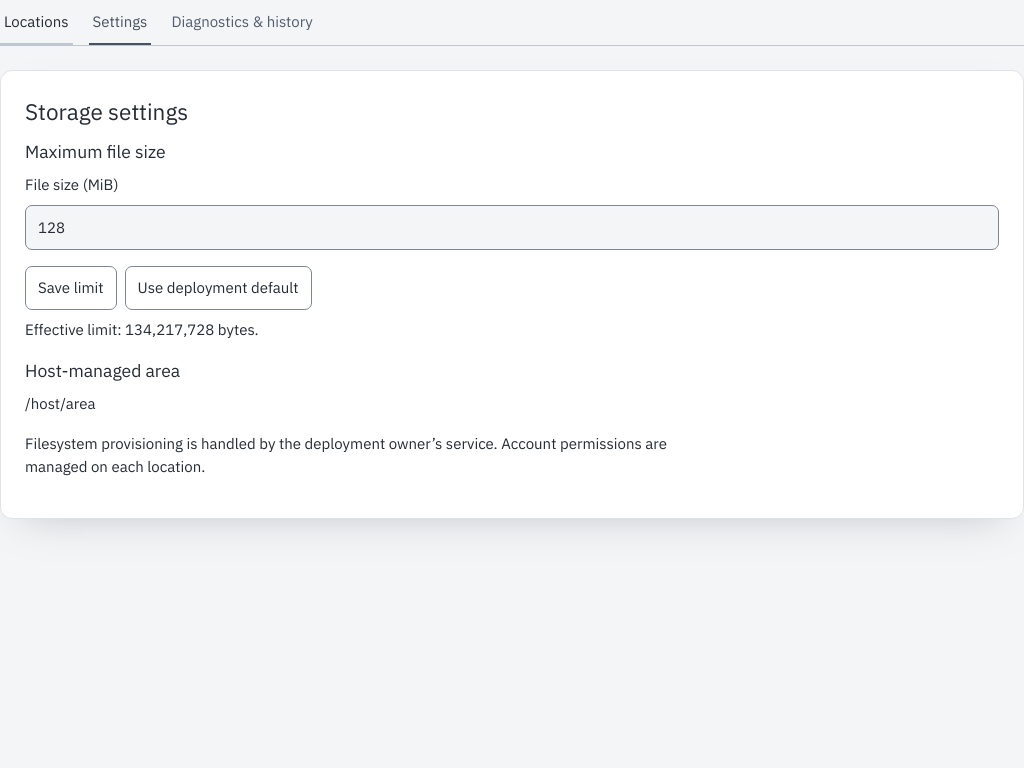
Scenario: settings polling updates clean fields but preserves active drafts
Replace the text in the number field labelled "File size (MiB)" with "20" at (512, 227), box [25, 205, 999, 250]
Wait 3000 ms
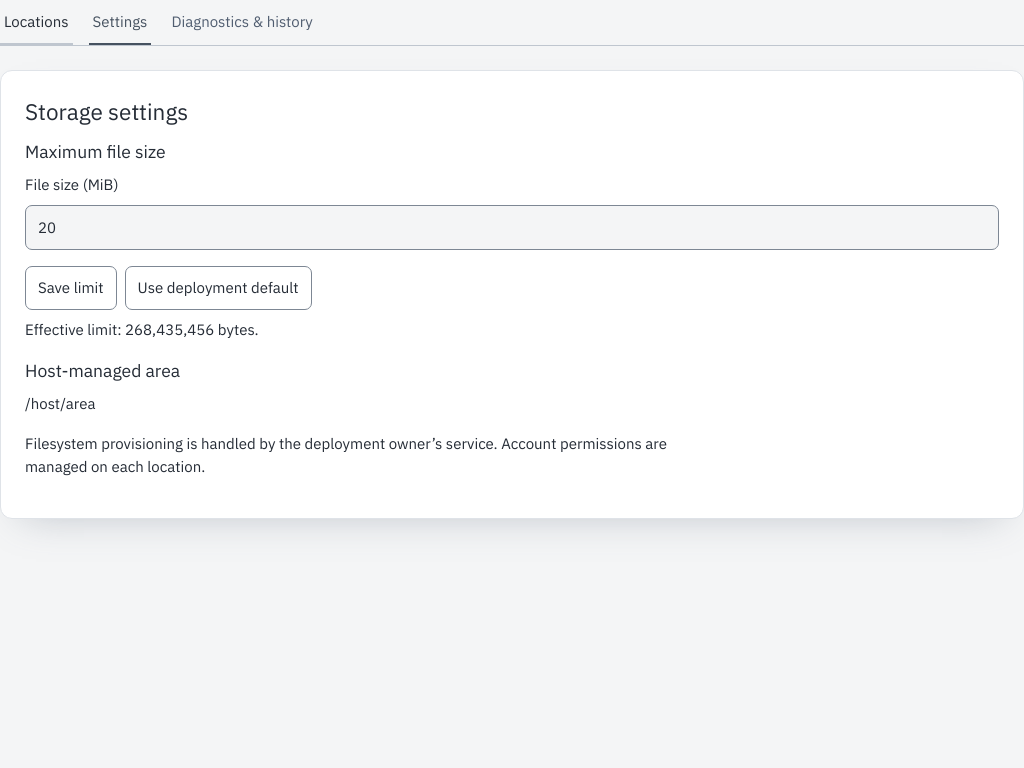
Now the text "Effective limit: 268,435,456 bytes." is shown, box [25, 320, 259, 339]
Replace the text in the number field labelled "File size (MiB)" with "256" at (512, 227), box [25, 205, 999, 250]
Wait 3000 ms
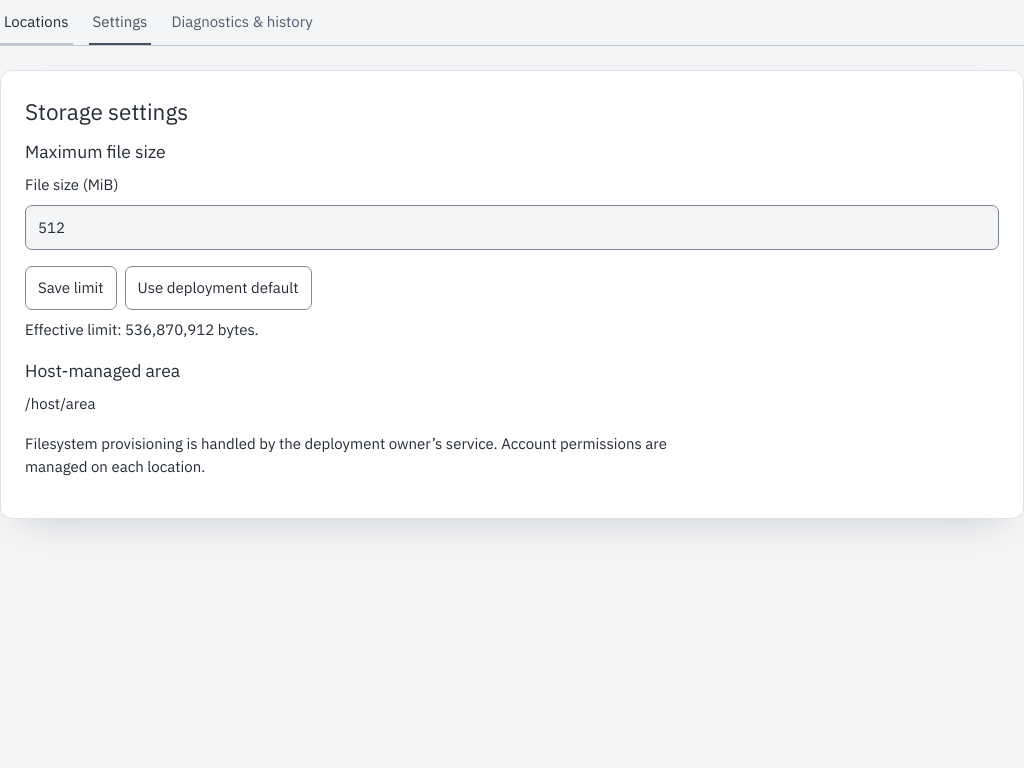
Now the number field labelled "File size (MiB)" holds "512", box [25, 205, 999, 250]
